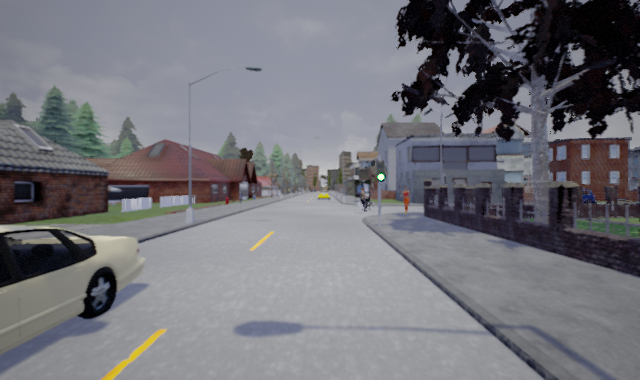bike: (354, 187, 380, 213)
pedestrian: (399, 184, 411, 213)
traffic_light: (376, 158, 387, 183)
vehicle: (1, 225, 143, 362)
